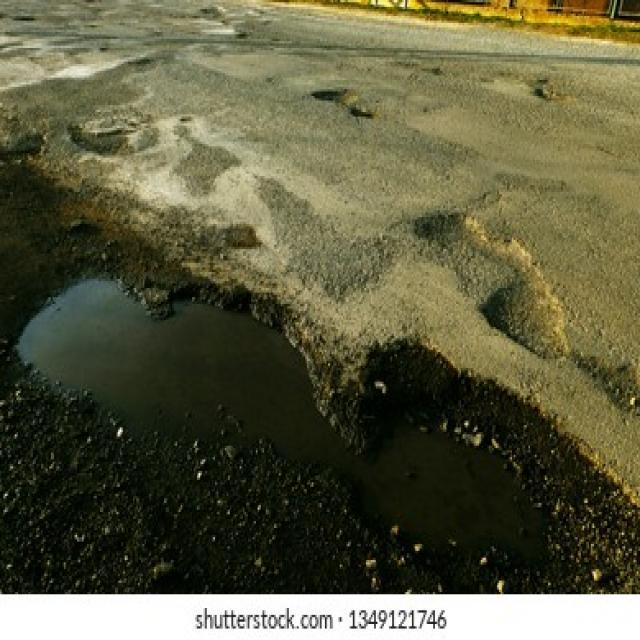Pothole: (3, 238, 351, 522), (341, 352, 596, 585), (414, 208, 572, 361), (604, 358, 640, 418), (312, 86, 358, 105), (348, 102, 374, 121), (533, 84, 555, 103)
